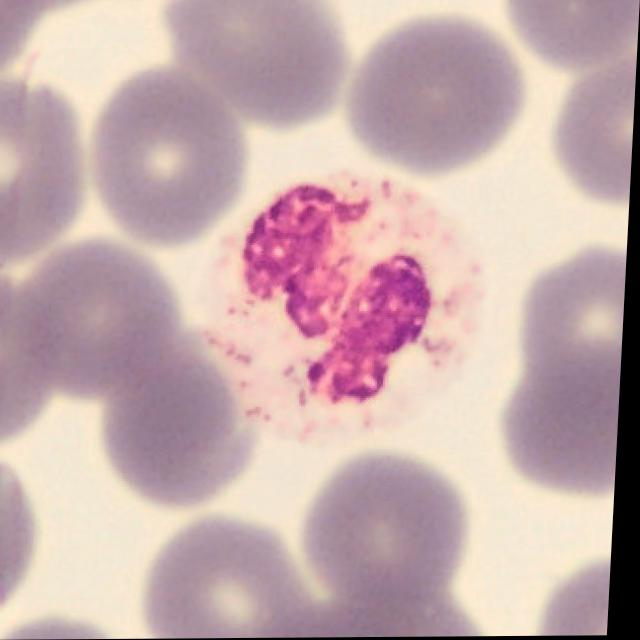Neutrofilo segmentado: (203, 168, 491, 448)
